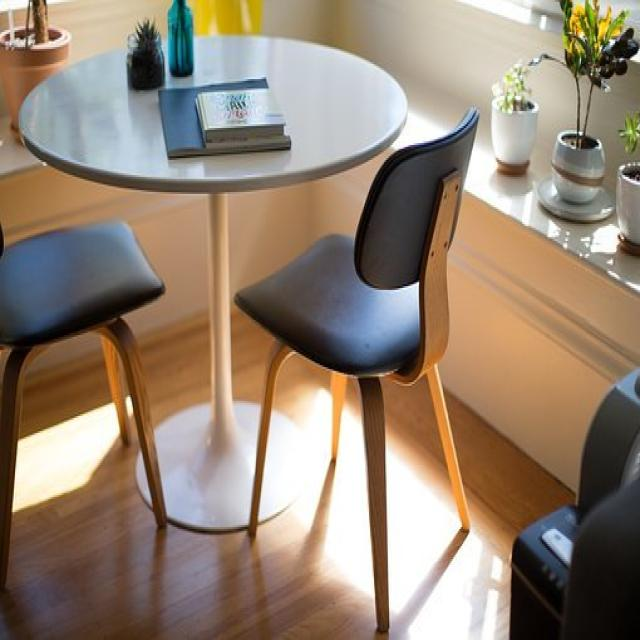obstacle: (240, 110, 495, 633), (73, 3, 400, 209), (7, 154, 189, 503)
